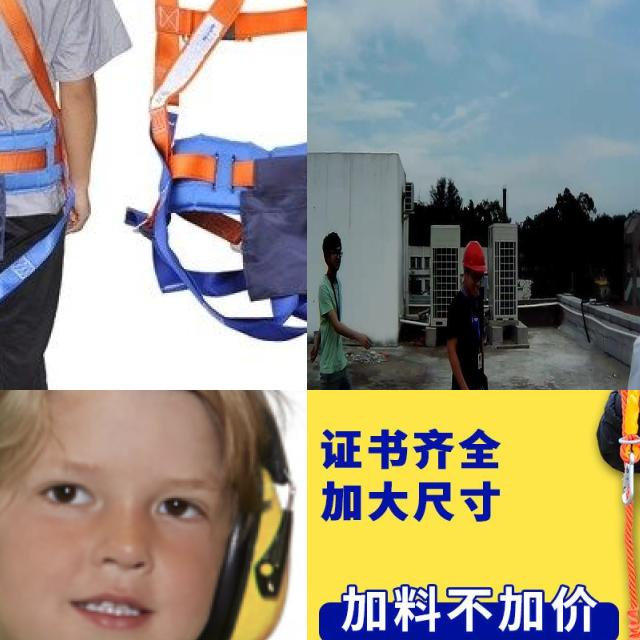Ear-protection: (160, 435, 307, 640)
Harness: (140, 0, 307, 357), (0, 0, 70, 328)
No_Ear-Protection: (457, 240, 489, 306), (318, 222, 348, 284)
No_Glasses: (0, 434, 227, 548)
